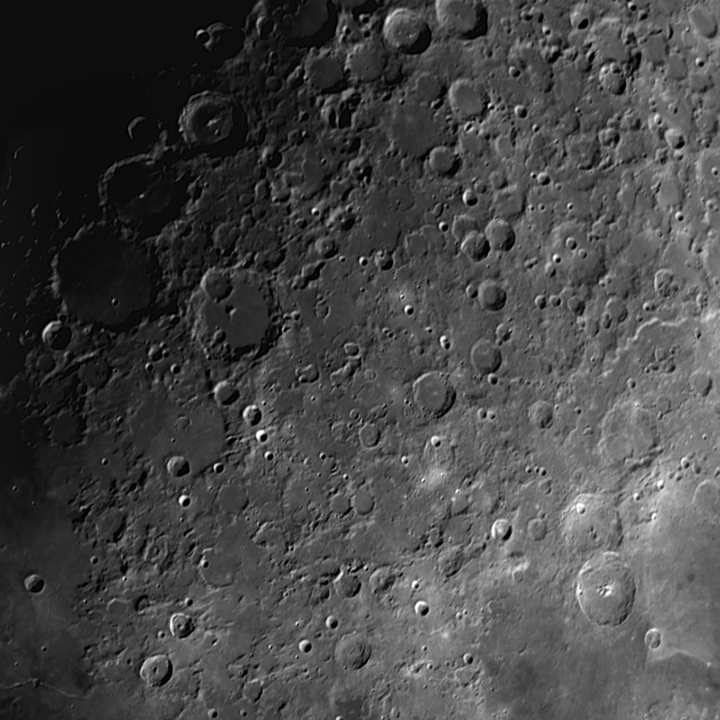crater: (51, 218, 179, 352), (587, 400, 674, 490), (569, 552, 647, 643), (8, 546, 70, 620), (371, 4, 435, 60), (406, 365, 464, 423), (443, 76, 497, 133), (431, 1, 498, 46), (133, 651, 184, 700), (30, 317, 75, 363), (400, 595, 445, 629), (400, 300, 421, 322)
